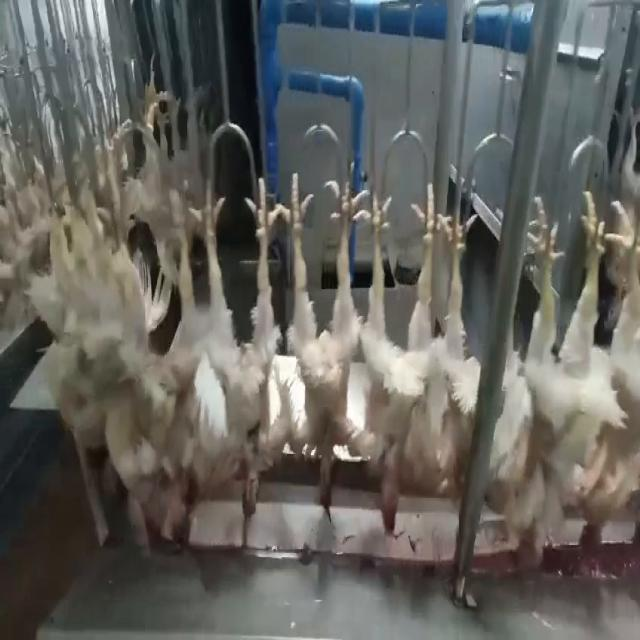chicken: (508, 188, 604, 578), (354, 170, 447, 536), (280, 157, 369, 509), (193, 163, 279, 518), (116, 177, 193, 544), (575, 192, 639, 564), (421, 186, 492, 499)
